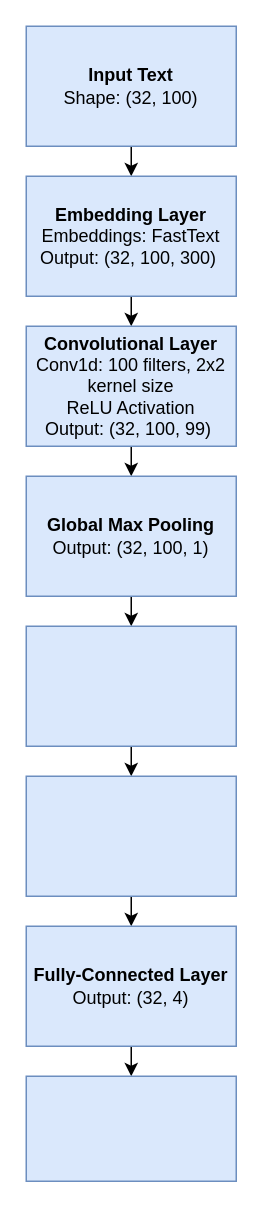
Image size: 263x1208. Some labels were removed from this diagram. The box of each missing label's shape, as (x1, y1, x2, y2) in pixels:
Dropout = 0.5: (25, 775, 236, 896)
Output Layer Sigmoid Activation: (25, 1075, 236, 1181)
Recurrent Layer GRU hidden = 128 Output: (1, 32, 128): (25, 625, 236, 746)
